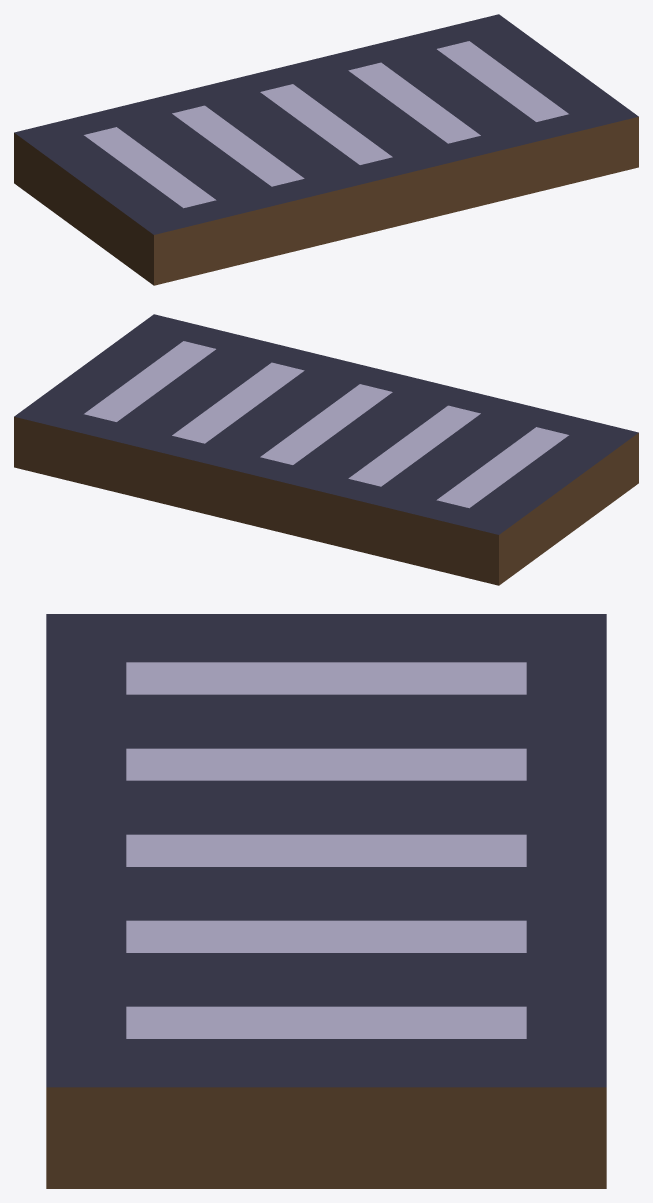
File: cross_road_2.fbx
The picture shows the model from 3 angles, top to bottom: view 1: azimuth 30°, elevation 25°; view 2: azimuth 150°, elevation 25°; view 3: azimuth 270°, elevation 25°; orthographic projection. The views are drawn at different scales.
Visible parts, largest first — view 1: Cube.091; view 2: Cube.091; view 3: Cube.091.
Part boxes in pixels (x1,y1,x2,y2): Cube.091: (14,14,638,285); Cube.091: (14,314,638,585); Cube.091: (46,614,606,1188).
Bounding box in the file's own units: 2000 × 200 × 1000.
1 material, 1 textured.
